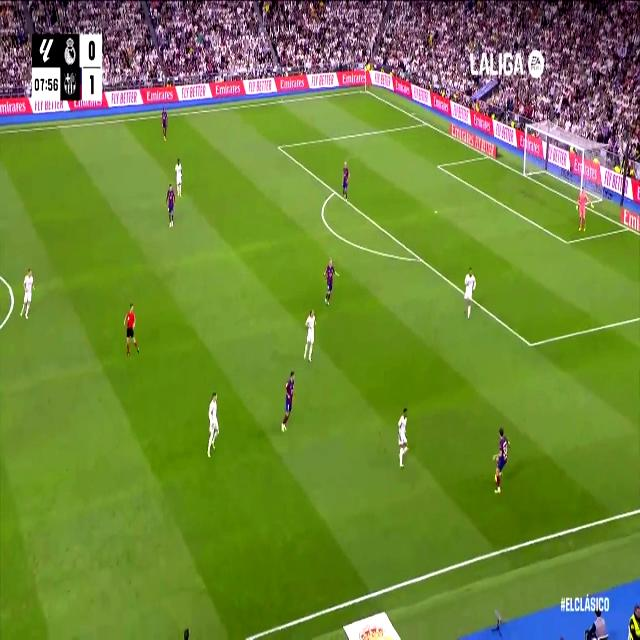bigarea_bottom_inner: (525, 333, 535, 355)
bigarea_top_inner: (276, 138, 282, 154)
bigarea_top_outter: (422, 117, 428, 127)
bottom_arc_area_intersection: (415, 250, 425, 268)
corner: (362, 86, 370, 94)
smallarea_bottom_inner: (564, 235, 570, 249)
smallarea_top_inner: (436, 162, 441, 170)
top_arc_area_intersection: (331, 184, 338, 198)
